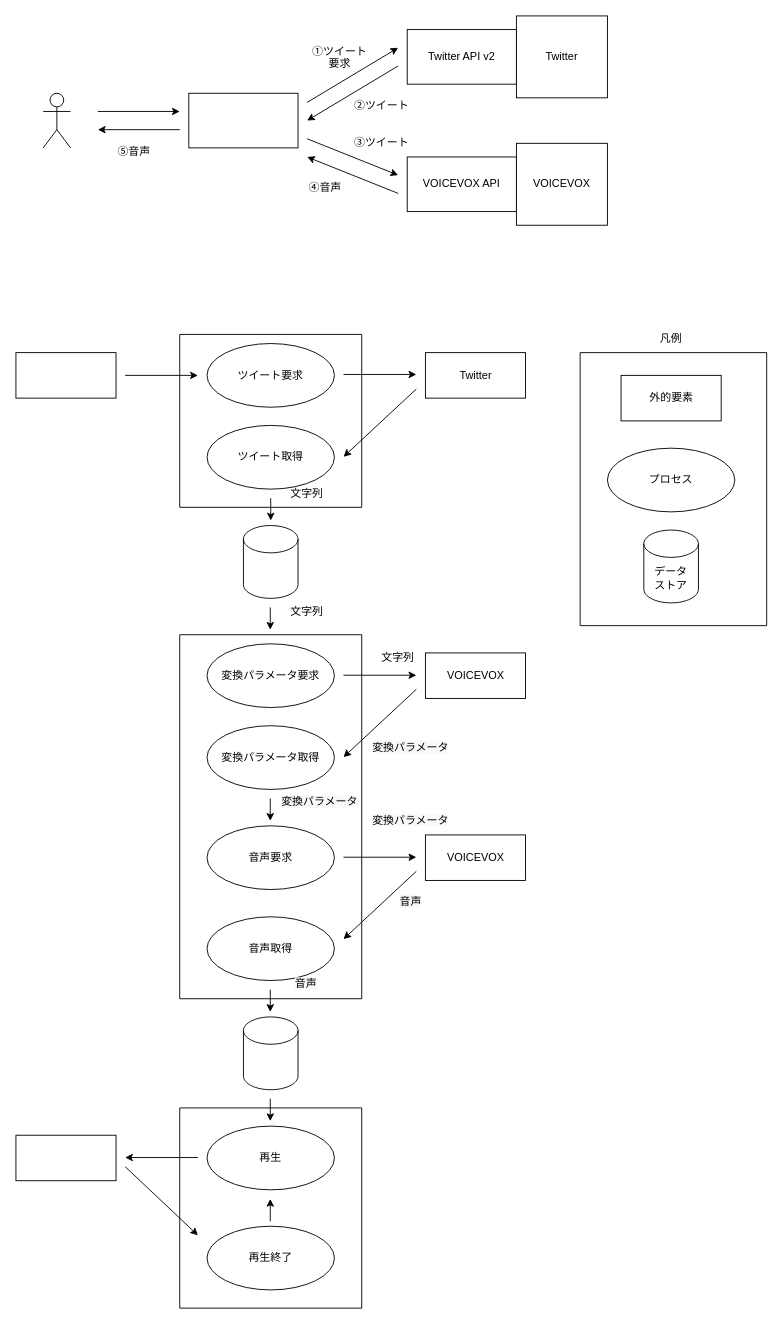
The diagram is 783 pixels wide and 1324 high, and some of its shapes have lost their labels. The shapes that lost their labels are listed below. From the top down, each one's centre as x and y in pixels, then its label:
(56,120): ユーザ
(243,120): ついよみ
(65,375): タイマー
(270,561): ツイートキュー
(270,1053): 音声 キュー
(65,1157): オーディオ IO
